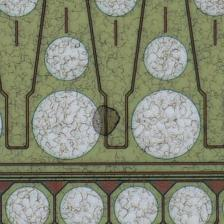COATING BAD: (88, 103, 124, 139)
